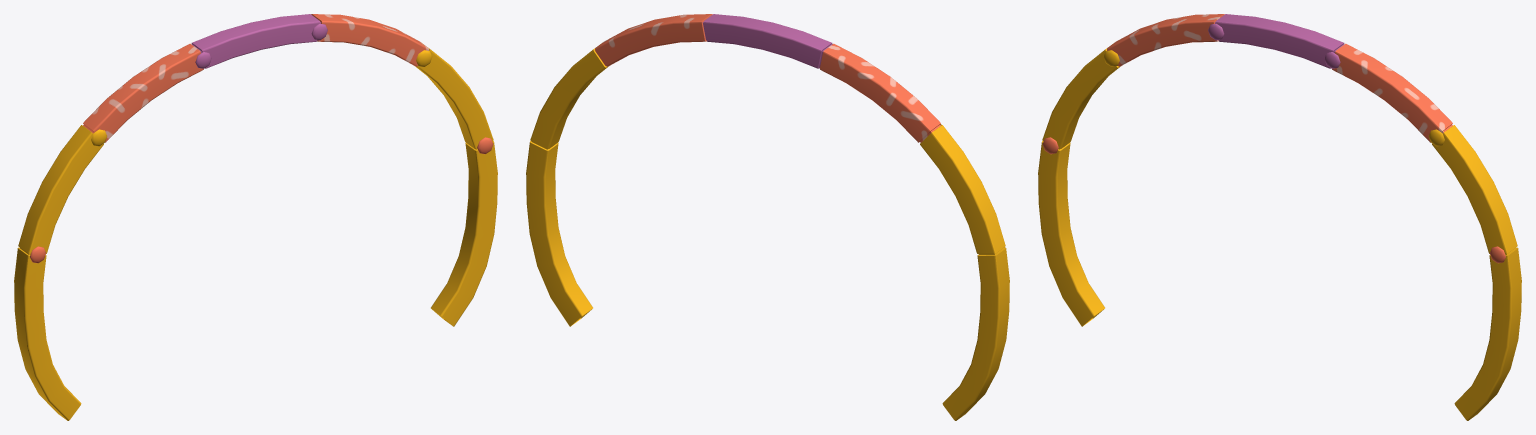
The model's file is GB_arch.fbx.
The picture shows the model from 3 angles, left to right: view 1: azimuth 30°, elevation 25°; view 2: azimuth 150°, elevation 25°; view 3: azimuth 330°, elevation 25°; orthographic projection.
Visible parts, largest first — view 1: arch; view 2: arch; view 3: arch.
Part boxes in pixels (x1=…): arch: x1=14, y1=14, x2=497, y2=420; arch: x1=526, y1=14, x2=1009, y2=420; arch: x1=1038, y1=14, x2=1521, y2=420.
Bounding box in the file's own units: 874 × 606 × 41.1.
